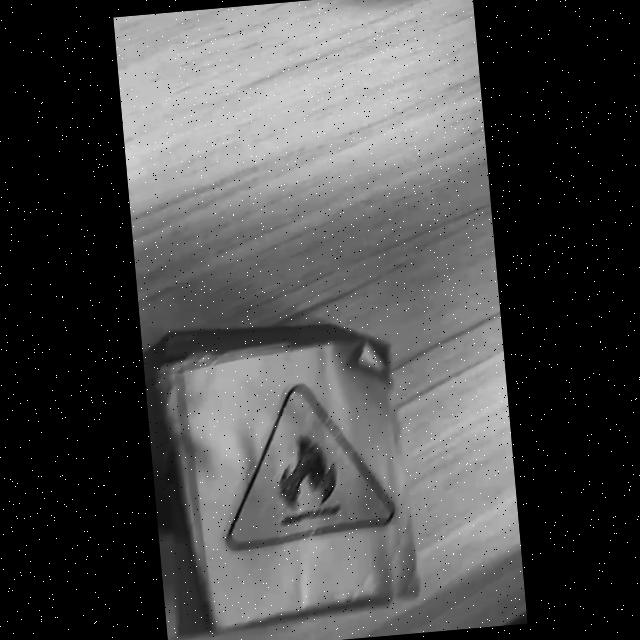Fire: (226, 382, 395, 550)
